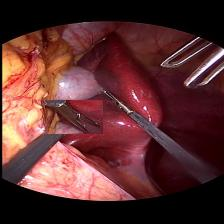Grasper: (156, 35, 224, 90), (44, 100, 102, 134), (98, 90, 134, 114)
